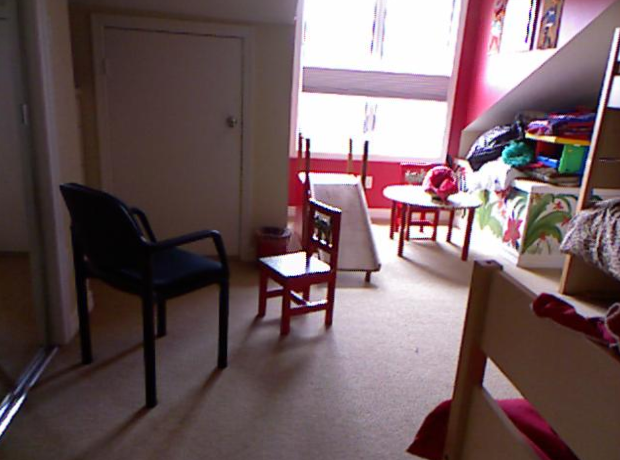chair: (55, 182, 229, 366), (257, 199, 337, 331)
door: (106, 32, 241, 194)
table: (382, 184, 483, 262)
window: (303, 3, 440, 152)
